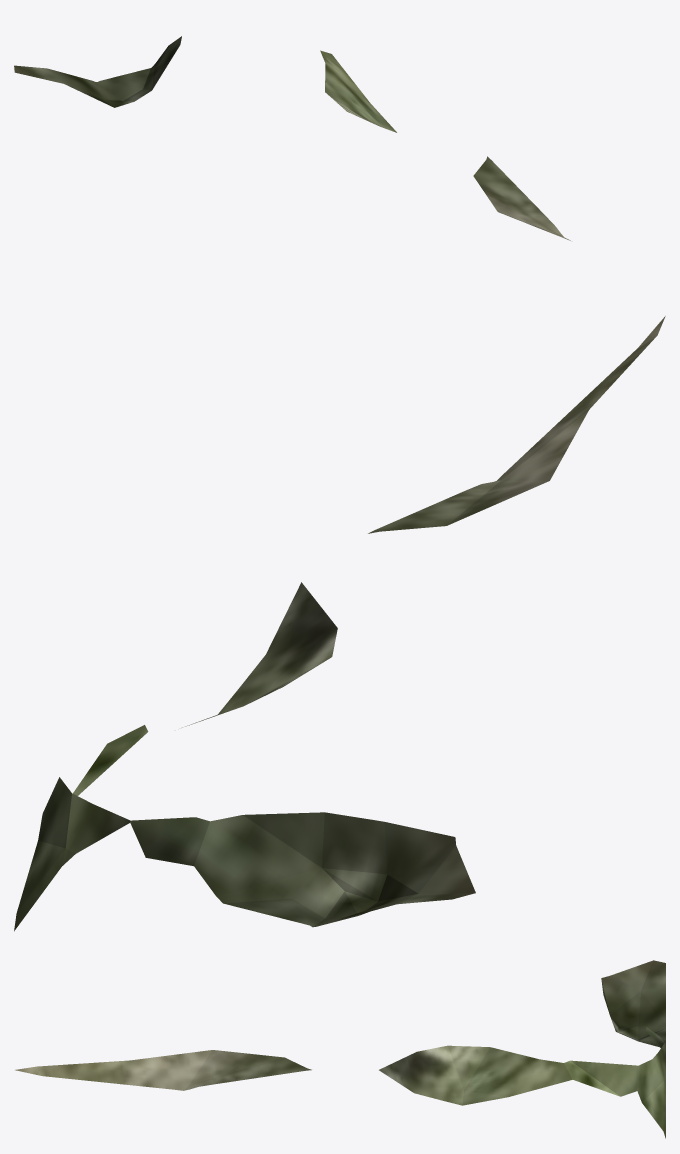
3 renders of one model, top to bottom at view 1: azimuth 30°, elevation 25°; view 2: azimuth 150°, elevation 25°; view 3: azimuth 270°, elevation 25°, orthographic. The views are drawn at different scales.
Size of the model in its own units: 1.04 by 0.3075 by 2.61.
1 material, 1 textured.
